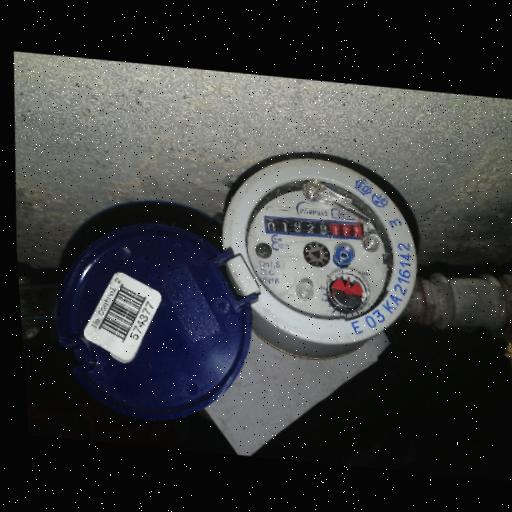0: (266, 217, 280, 232)
1: (278, 218, 293, 233), (329, 222, 343, 236)
2: (303, 219, 318, 235)
7: (341, 223, 355, 237), (352, 224, 365, 238)
9: (316, 221, 331, 236), (290, 220, 305, 234)
border_water_meter_number: (263, 213, 366, 243)
